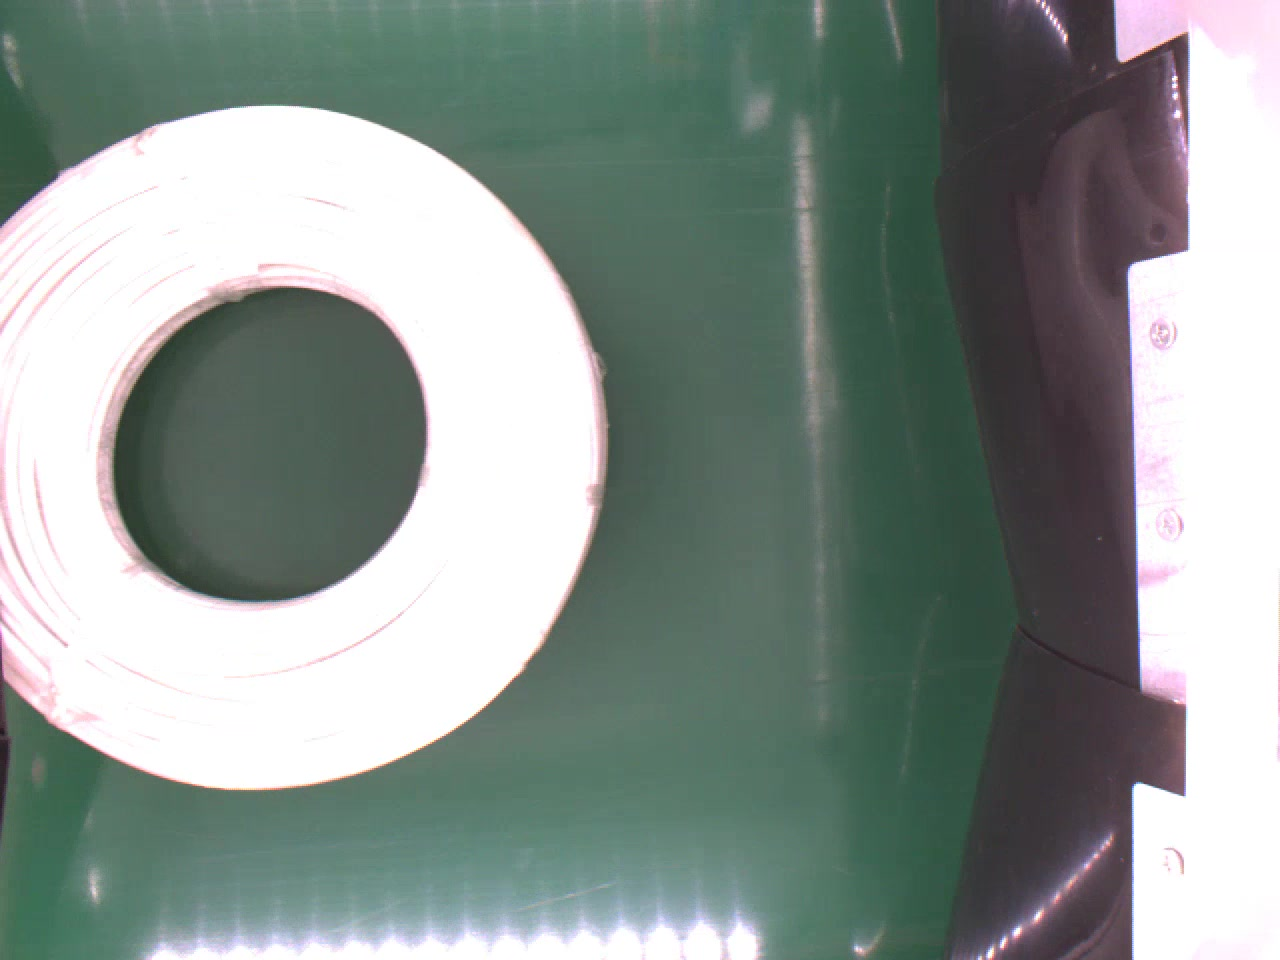white: (0, 100, 611, 790)
